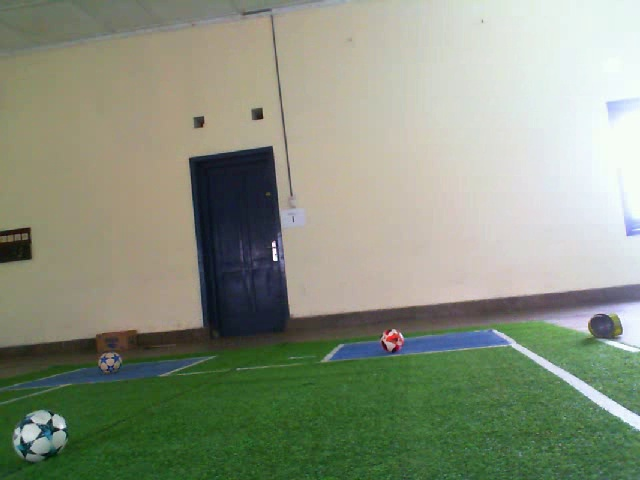ball: (9, 406, 72, 465), (378, 324, 406, 356), (96, 349, 125, 377)
